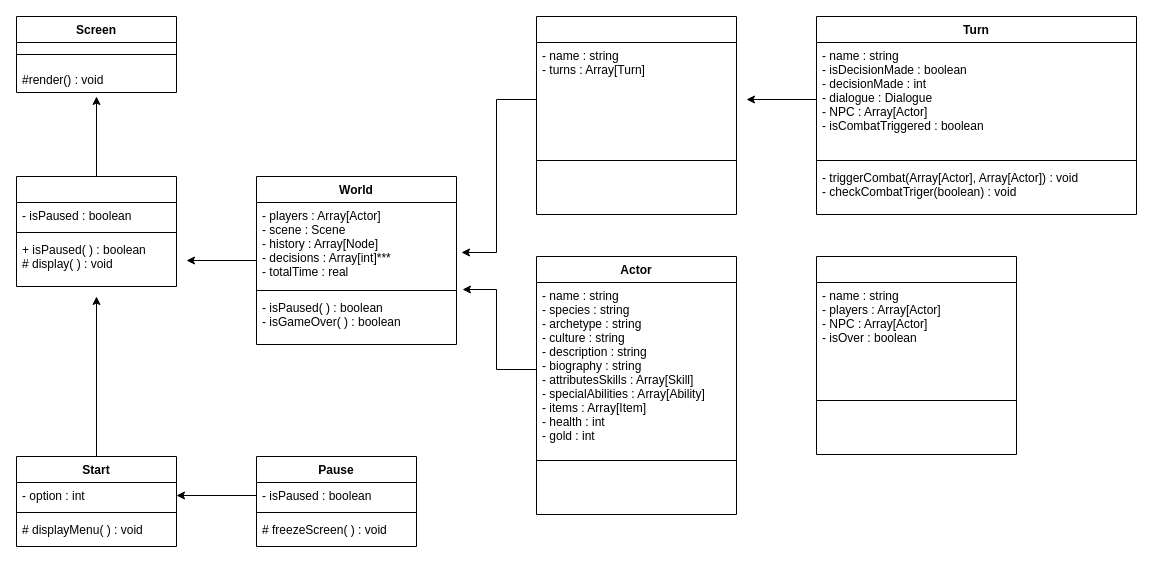
This 1153x563 diagram has some shape labels left out. The box of each missing label's shape, as (x1, y1, x2, y2) in pixels:
Combat: (816, 256, 1016, 454)
Menu: (16, 176, 176, 286)
Node: (536, 16, 736, 214)
